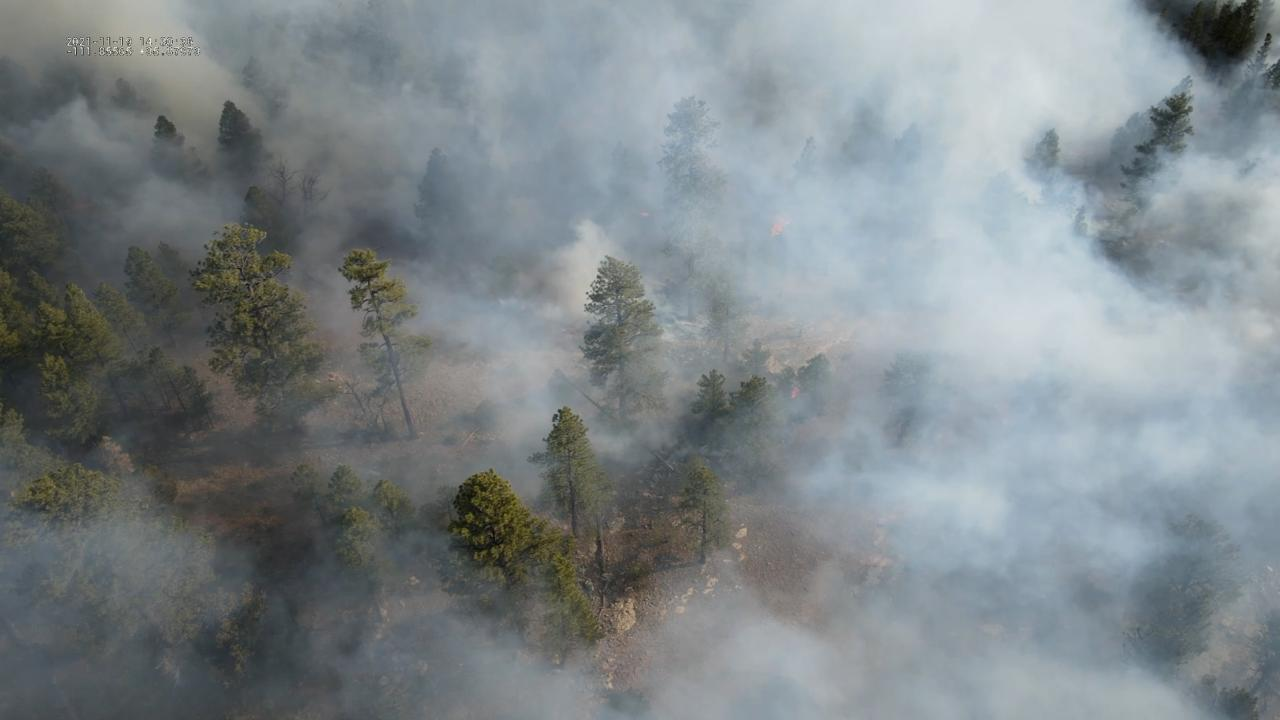fire: (768, 219, 790, 238), (789, 386, 801, 400), (637, 212, 651, 219)
smoke: (0, 0, 1280, 720)
